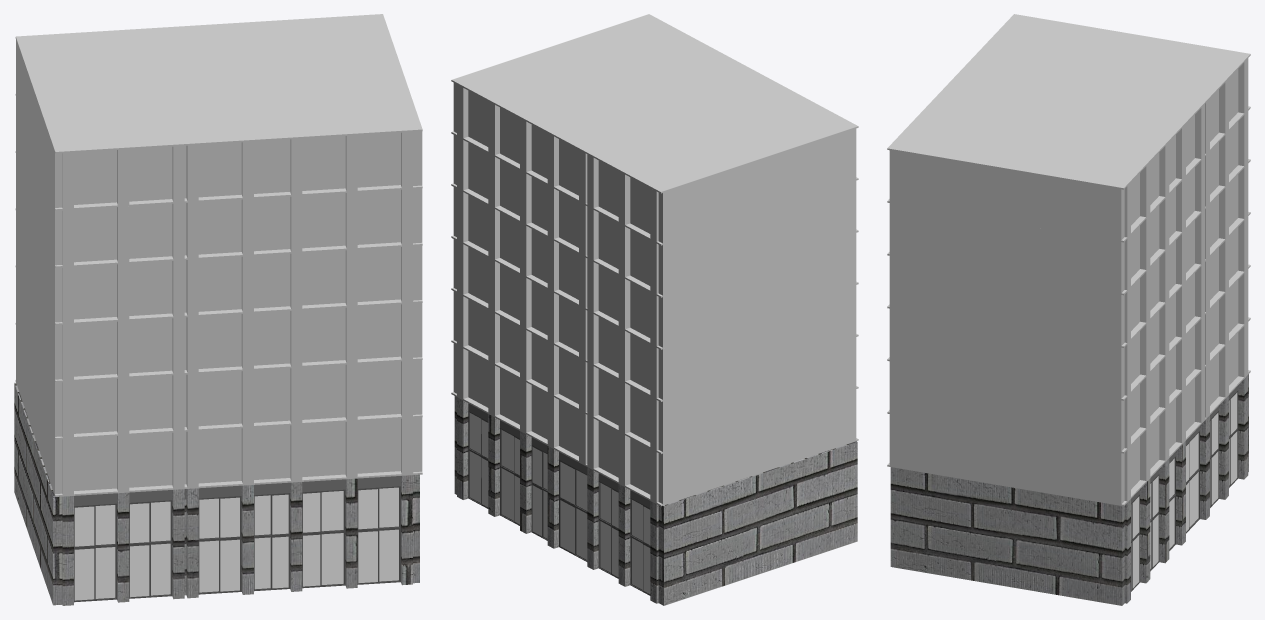
Rendered from MSH_Torre-C.fbx.
3 renders of one model, left to right at view 1: azimuth 30°, elevation 25°; view 2: azimuth 150°, elevation 25°; view 3: azimuth 270°, elevation 25°, orthographic. The views are drawn at different scales.
Visible parts, largest first — view 1: MSH_Torre_3, MSH_Torre_Muros_3, MSH_Vidrios_Lobby_T3; view 2: MSH_Torre_3, MSH_Torre_Muros_3; view 3: MSH_Torre_3, MSH_Torre_Muros_3.
Part boxes in pixels (bbox=[...]): MSH_Torre_3: bbox=[15, 14, 422, 496]; MSH_Torre_Muros_3: bbox=[14, 382, 419, 605]; MSH_Vidrios_Lobby_T3: bbox=[74, 487, 398, 600]; MSH_Torre_3: bbox=[451, 14, 858, 506]; MSH_Torre_Muros_3: bbox=[454, 396, 857, 605]; MSH_Torre_3: bbox=[887, 14, 1250, 506]; MSH_Torre_Muros_3: bbox=[890, 374, 1248, 605].
Size of the model in its own units: 2411 by 2700 by 2123.
